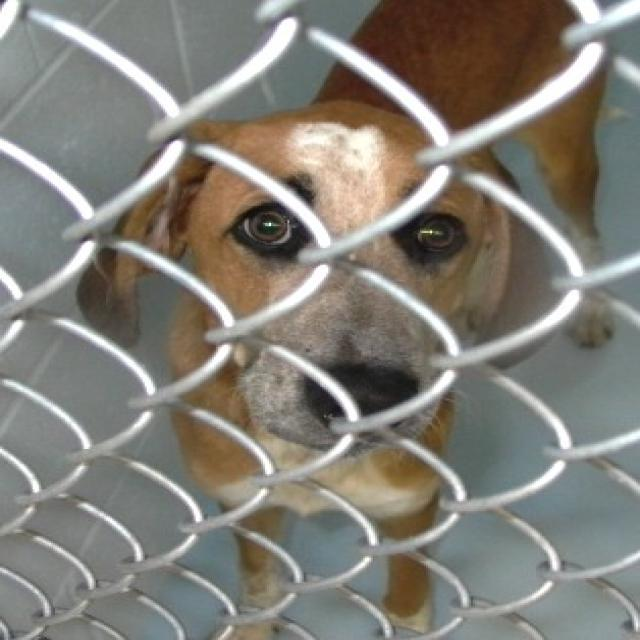Dogs: (73, 0, 617, 638)
